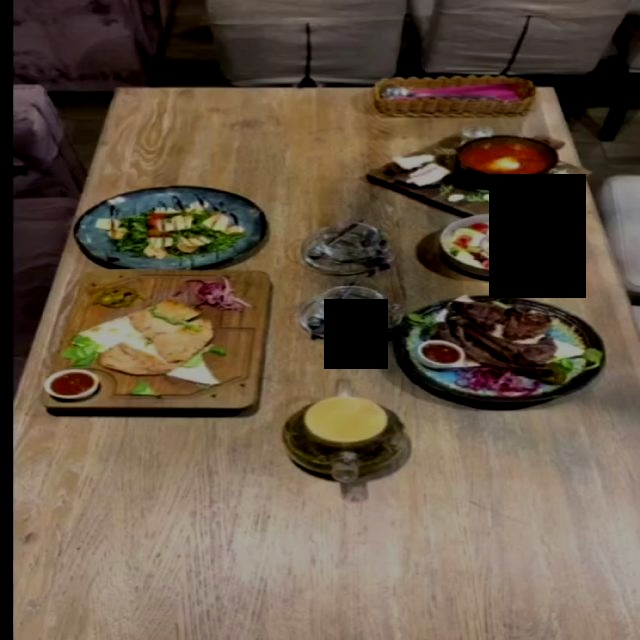meat: (42, 268, 283, 412), (389, 293, 605, 402)
salad: (73, 185, 265, 267), (438, 212, 489, 277)
soup: (387, 134, 566, 205)
tea: (280, 392, 410, 480)
